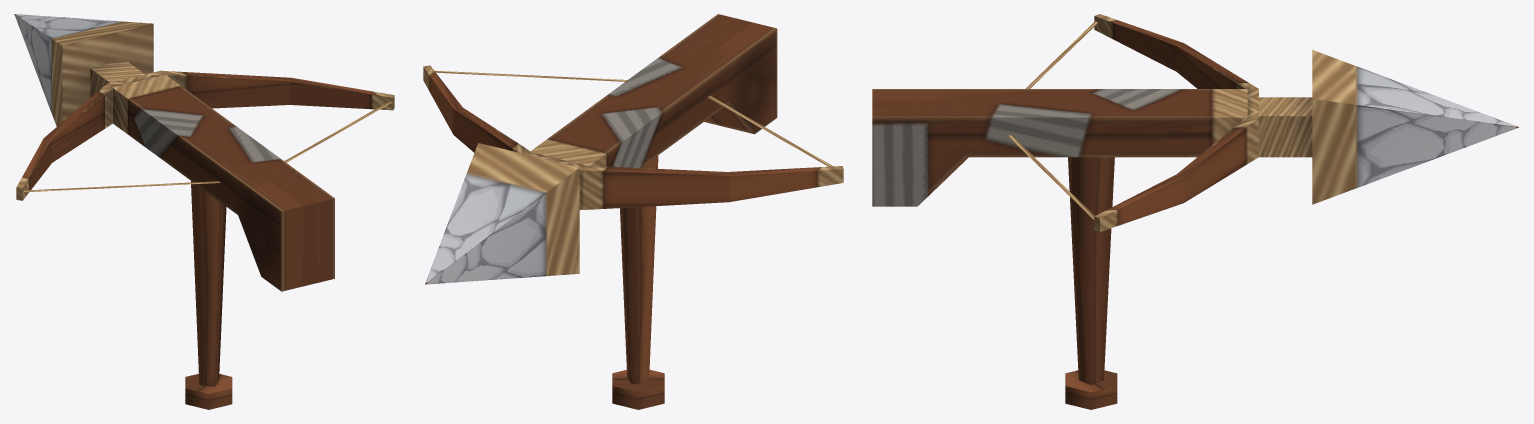
The model's file is crossbow_lvl_1.FBX.
The picture shows the model from 3 angles, left to right: view 1: azimuth 30°, elevation 25°; view 2: azimuth 150°, elevation 25°; view 3: azimuth 270°, elevation 25°; orthographic projection. The views are drawn at different scales.
Parts seen in each view (by area): view 1: crossbow_body011; view 2: crossbow_body011; view 3: crossbow_body011.
Boxes of the visible parts, x1,y1,x2,y2 form: crossbow_body011: (14, 14, 394, 409); crossbow_body011: (423, 14, 843, 409); crossbow_body011: (872, 14, 1518, 409).
Size of the model in its own units: 145 by 106 by 193.
1 material, 1 textured.
